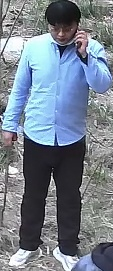smoking: (43, 0, 110, 93)
